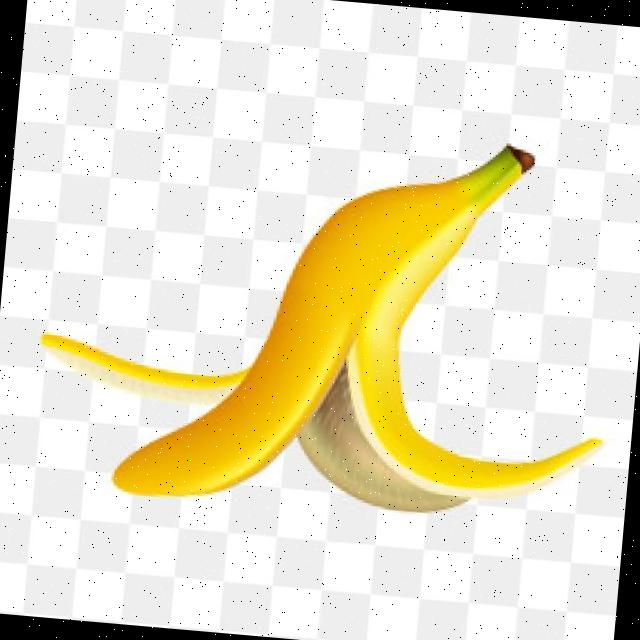banana-peel: (26, 102, 626, 534)
